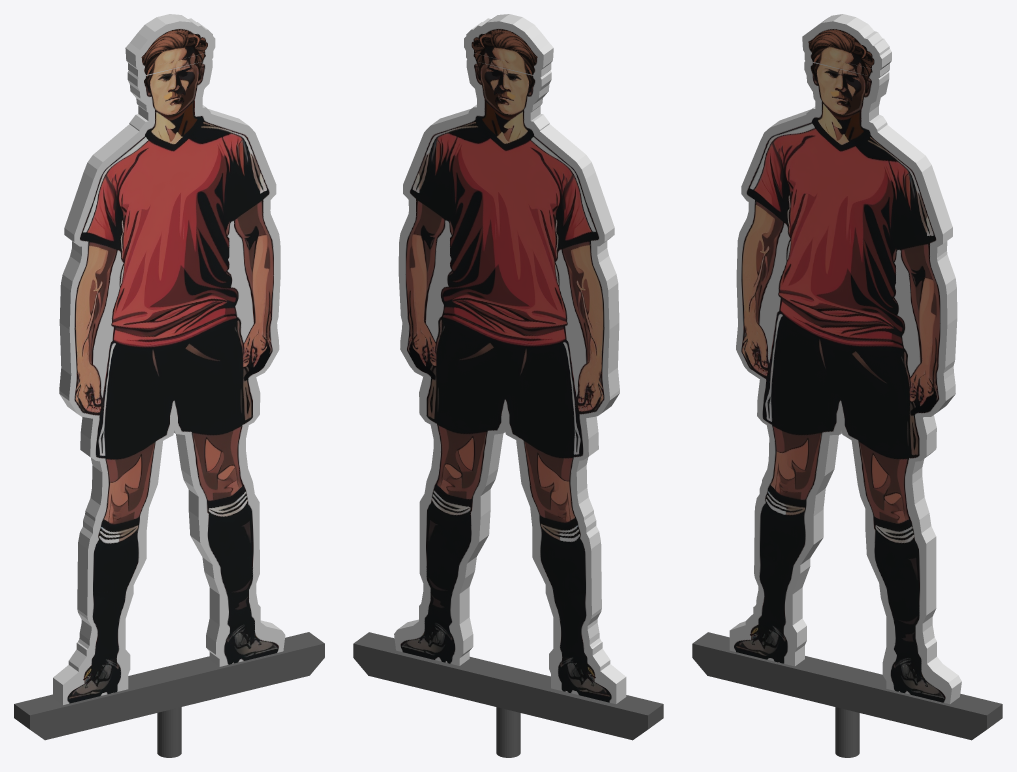
Rendered from pole.glb.
3 views of the same model, side by side, from view 1: azimuth 30°, elevation 25°; view 2: azimuth 150°, elevation 25°; view 3: azimuth 330°, elevation 25° (orthographic).
Visible parts, largest first — view 1: cutOut2, metal; view 2: cutOut2, metal; view 3: cutOut2, metal.
Part boxes in pixels (x1,y1,x2,y2): cutOut2: [53, 14, 285, 704]; metal: [14, 632, 324, 757]; cutOut2: [394, 14, 626, 703]; metal: [353, 632, 663, 757]; cutOut2: [729, 14, 961, 704]; metal: [692, 632, 1002, 757].
Bounding box in the file's own units: 2.88 × 6.84 × 0.266.
Materials: 2 (1 with a texture image).
